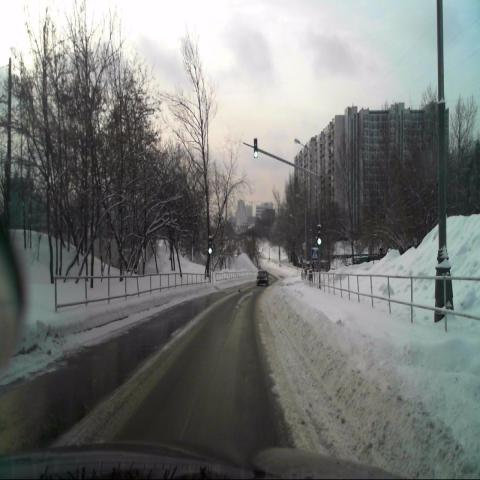5_19_1: (311, 247, 319, 260)
